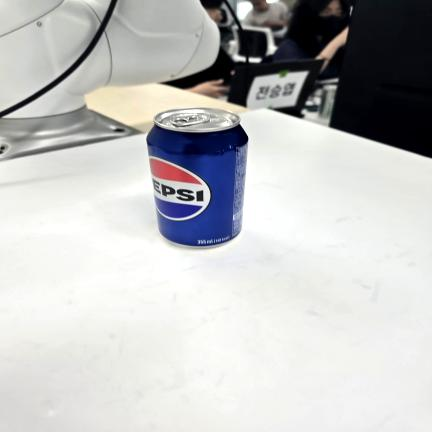can_pepsi: (147, 108, 248, 247)
